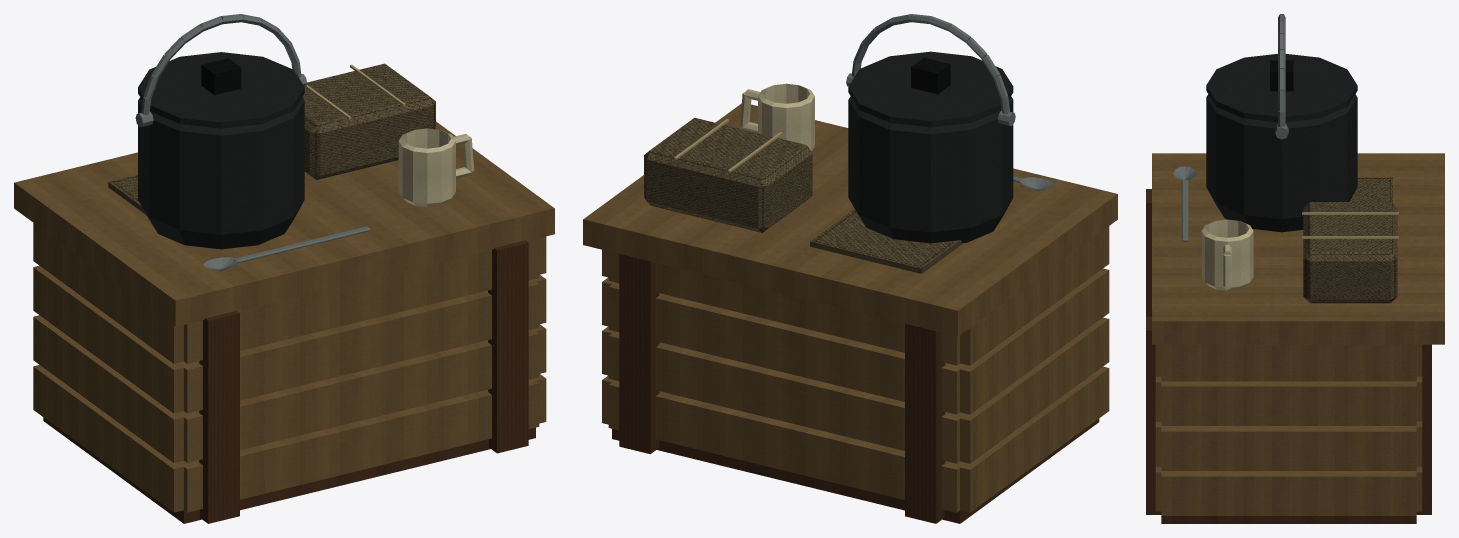
The model's file is level_work_survivor_cookbox.glb.
3 renders of one model, left to right at view 1: azimuth 30°, elevation 25°; view 2: azimuth 150°, elevation 25°; view 3: azimuth 270°, elevation 25°, orthographic. The views are drawn at different scales.
Parts seen in each view (by area): view 1: level_work_survivor_cookbox; view 2: level_work_survivor_cookbox; view 3: level_work_survivor_cookbox.
Part boxes in pixels (x1,y1,x2,y2): level_work_survivor_cookbox: [14, 14, 554, 523]; level_work_survivor_cookbox: [583, 14, 1117, 523]; level_work_survivor_cookbox: [1146, 14, 1444, 523].
Size of the model in its own units: 0.84 by 0.9169 by 0.6325.
8 materials, 8 textured.
